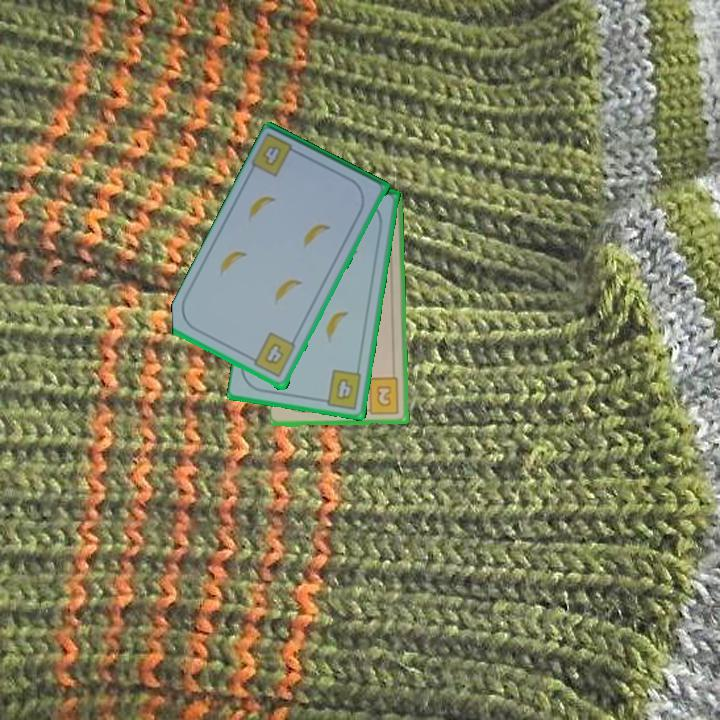2b: (360, 375, 402, 418)
4b: (249, 130, 304, 180), (246, 330, 299, 381), (317, 366, 365, 412)
